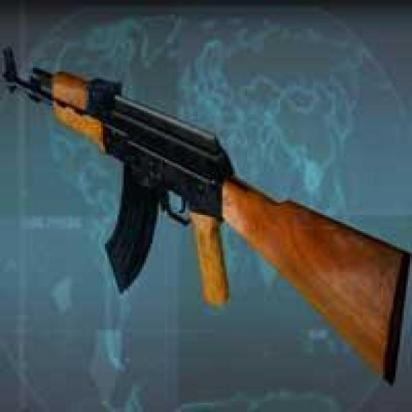Gun: (0, 43, 408, 394)
